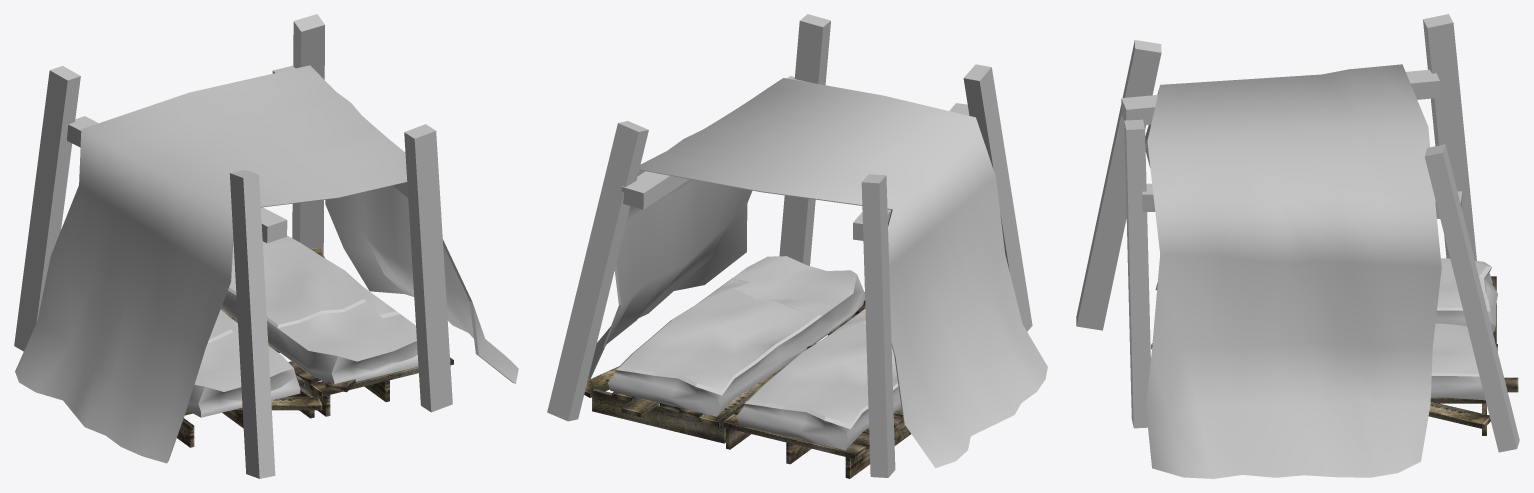
Rendered from Tent_1.fbx.
The picture shows the model from 3 angles, left to right: view 1: azimuth 30°, elevation 25°; view 2: azimuth 150°, elevation 25°; view 3: azimuth 270°, elevation 25°; orthographic projection. The views are drawn at different scales.
Visible parts, largest first — view 1: polySurface4; view 2: polySurface4; view 3: polySurface4.
Part boxes in pixels (x1,y1,x2,y2): polySurface4: (14, 14, 518, 478); polySurface4: (547, 14, 1047, 478); polySurface4: (1076, 14, 1519, 478).
Size of the model in its own units: 104 by 72.05 by 98.24.
